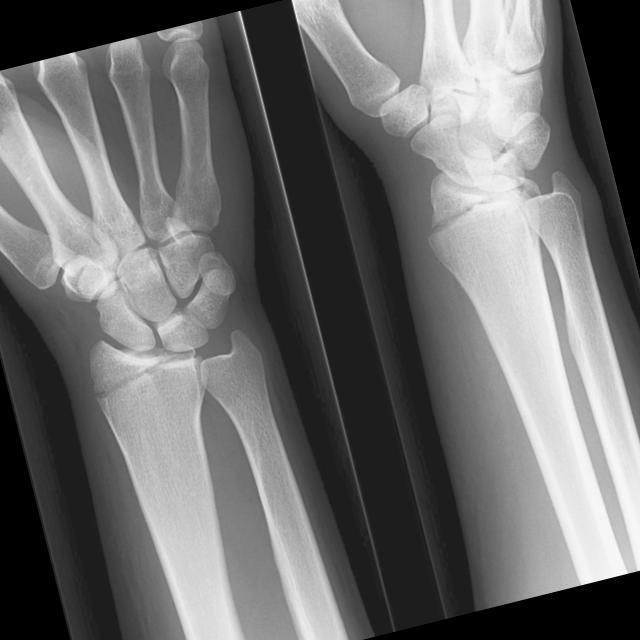Intra-articular fracture: (426, 192, 504, 242), (79, 361, 169, 397)
